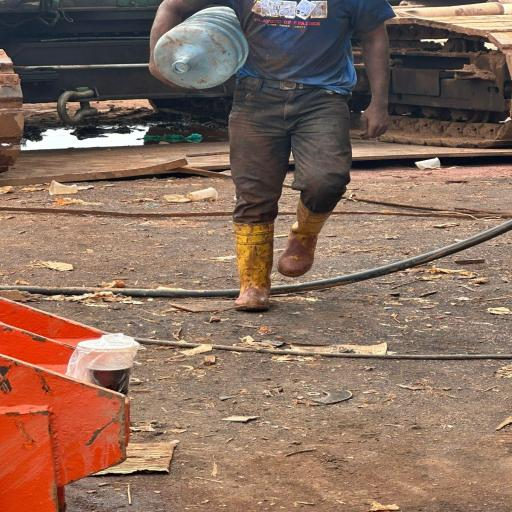safety_shoe: (224, 218, 285, 314), (274, 199, 327, 284)
